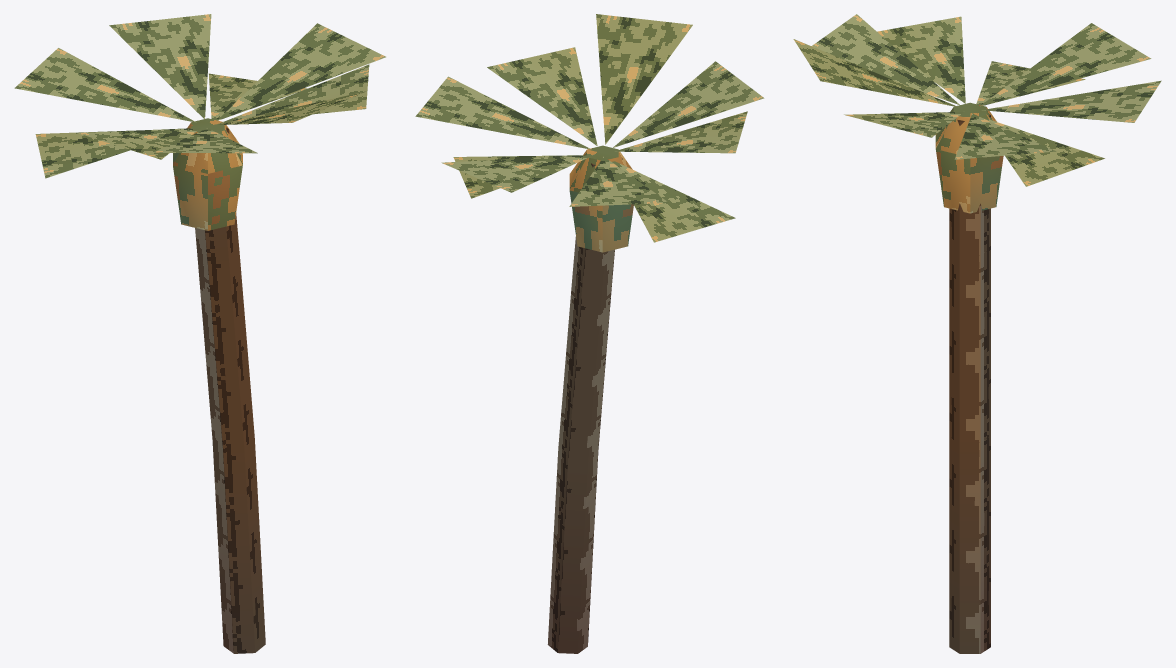
The model's file is wland.palm.glb.
3 views of the same model, side by side, from view 1: azimuth 30°, elevation 25°; view 2: azimuth 150°, elevation 25°; view 3: azimuth 270°, elevation 25° (orthographic). The views are drawn at different scales.
Visible parts, largest first — view 1: kit_card_fronds_back, kit_trunks, kit_skirts; view 2: kit_card_fronds_back, kit_trunks, kit_skirts; view 3: kit_card_fronds_back, kit_trunks, kit_skirts.
Boxes of the visible parts, <box> form: kit_card_fronds_back: <box>14,14,385,178</box>; kit_trunks: <box>195,127,265,653</box>; kit_skirts: <box>173,118,242,230</box>; kit_card_fronds_back: <box>415,14,764,242</box>; kit_trunks: <box>547,154,622,653</box>; kit_skirts: <box>569,145,633,252</box>; kit_card_fronds_back: <box>793,14,1161,186</box>; kit_trunks: <box>949,114,990,653</box>; kit_skirts: <box>935,102,1003,213</box>.
Bounding box in the file's own units: 3.86 × 6.87 × 3.9.
Materials: 3 (3 with a texture image).
